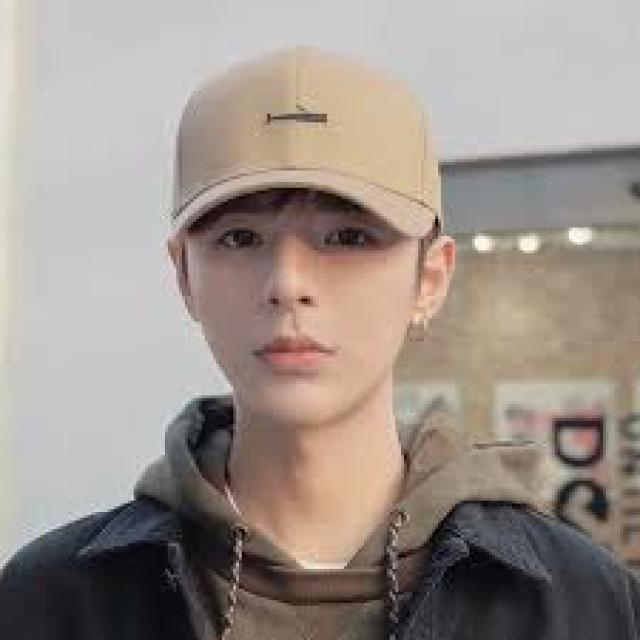cap: (140, 23, 498, 268)
